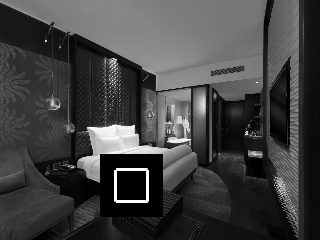square: (100, 154, 162, 217)
